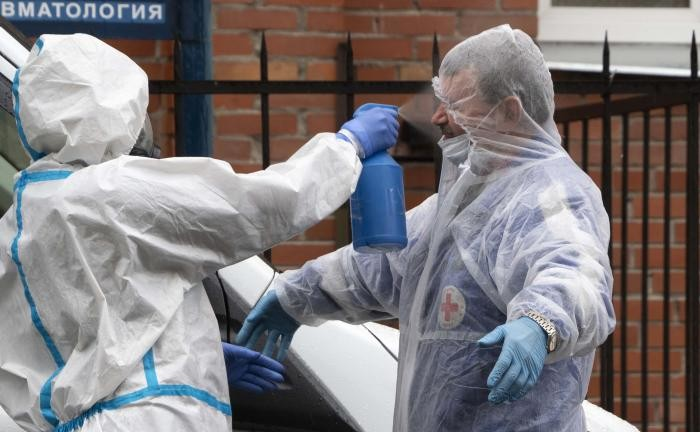Coverall: (1, 27, 363, 432)
Gloves: (279, 22, 619, 432), (474, 316, 553, 408), (237, 285, 306, 360), (216, 341, 290, 397), (337, 98, 404, 157)
